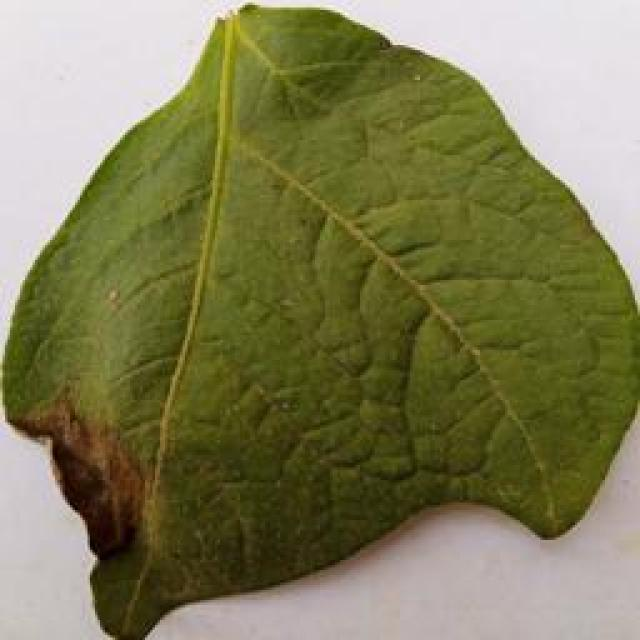Potato_Late_Blight: (5, 4, 634, 630)
